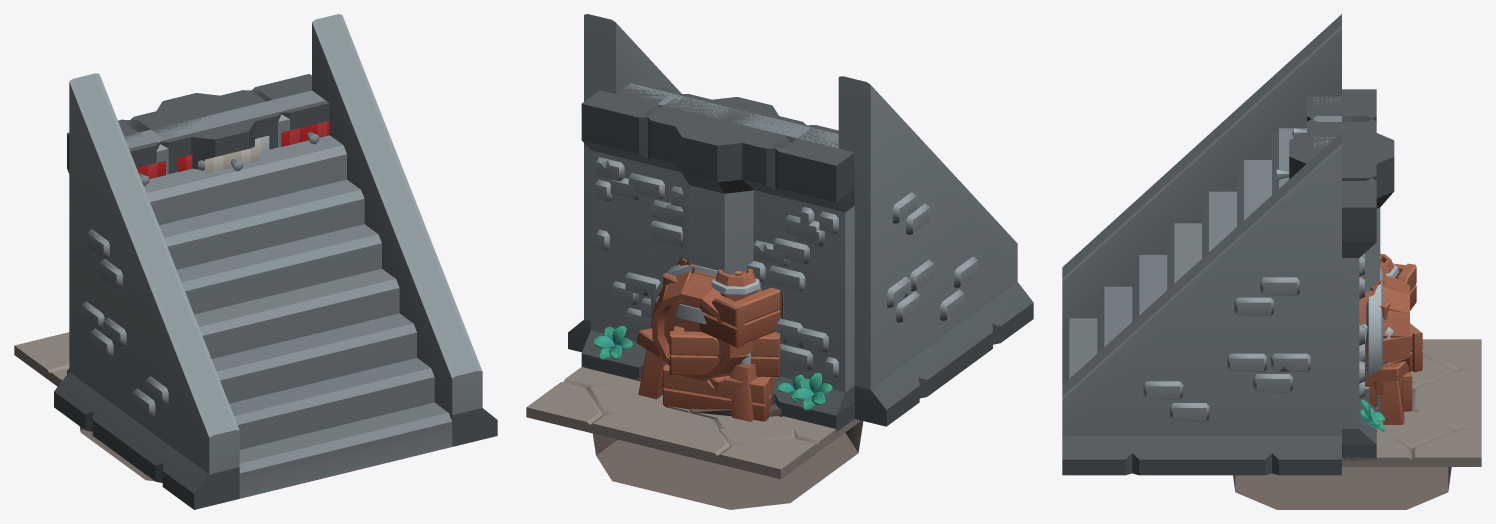
The model's file is crypt.glb.
3 renders of one model, left to right at view 1: azimuth 30°, elevation 25°; view 2: azimuth 150°, elevation 25°; view 3: azimuth 270°, elevation 25°, orthographic. The views are drawn at different scales.
Visible parts, largest first — view 1: stairs, wall, wall_arched, floor_tile_big_grate, pillar, banner_triple_red, pillar_decorated; view 2: stairs, wall, floor_tile_big_grate, wall_cracked, wall_arched, pillar, crates_stacked, keg, floor_tile_large, floor_tile_large_rocks, wall_endcap, table_medium_broken (+1 smaller); view 3: stairs, floor_tile_big_grate, wall, keg, floor_tile_large, pillar, crates_stacked, wall_arched, floor_tile_large_rocks, wall_cracked, table_medium_broken, wall_endcap.
Boxes of the visible parts, bbox=[...] form: stairs: bbox=[54, 14, 497, 509]; wall: bbox=[67, 74, 329, 374]; wall_arched: bbox=[67, 74, 329, 373]; floor_tile_big_grate: bbox=[14, 332, 154, 481]; pillar: bbox=[156, 93, 255, 169]; banner_triple_red: bbox=[136, 121, 329, 185]; pillar_decorated: bbox=[205, 146, 259, 173]; stairs: bbox=[568, 14, 1033, 426]; wall: bbox=[581, 81, 854, 431]; floor_tile_big_grate: bbox=[526, 367, 863, 509]; wall_cracked: bbox=[582, 82, 854, 411]; wall_arched: bbox=[582, 81, 854, 430]; pillar: bbox=[675, 97, 778, 274]; crates_stacked: bbox=[663, 261, 783, 421]; keg: bbox=[651, 264, 752, 380]; floor_tile_large: bbox=[586, 372, 814, 445]; floor_tile_large_rocks: bbox=[586, 372, 813, 445]; wall_endcap: bbox=[648, 94, 726, 281]; table_medium_broken: bbox=[636, 328, 757, 421]; stairs: bbox=[1062, 14, 1341, 475]; floor_tile_big_grate: bbox=[1233, 339, 1481, 509]; wall: bbox=[1307, 89, 1376, 460]; keg: bbox=[1365, 268, 1409, 376]; floor_tile_large: bbox=[1376, 357, 1458, 448]; pillar: bbox=[1289, 133, 1394, 292]; crates_stacked: bbox=[1375, 253, 1422, 411]; wall_arched: bbox=[1307, 90, 1376, 458]; floor_tile_large_rocks: bbox=[1376, 357, 1458, 448]; wall_cracked: bbox=[1342, 258, 1385, 431]; table_medium_broken: bbox=[1365, 361, 1408, 431]; wall_endcap: bbox=[1307, 148, 1376, 411].
Bounding box in the file's own units: 5 × 6.1 × 6.
Materials: 1 (1 with a texture image).
